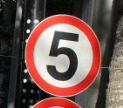speed_limit_5: (25, 14, 101, 98)
